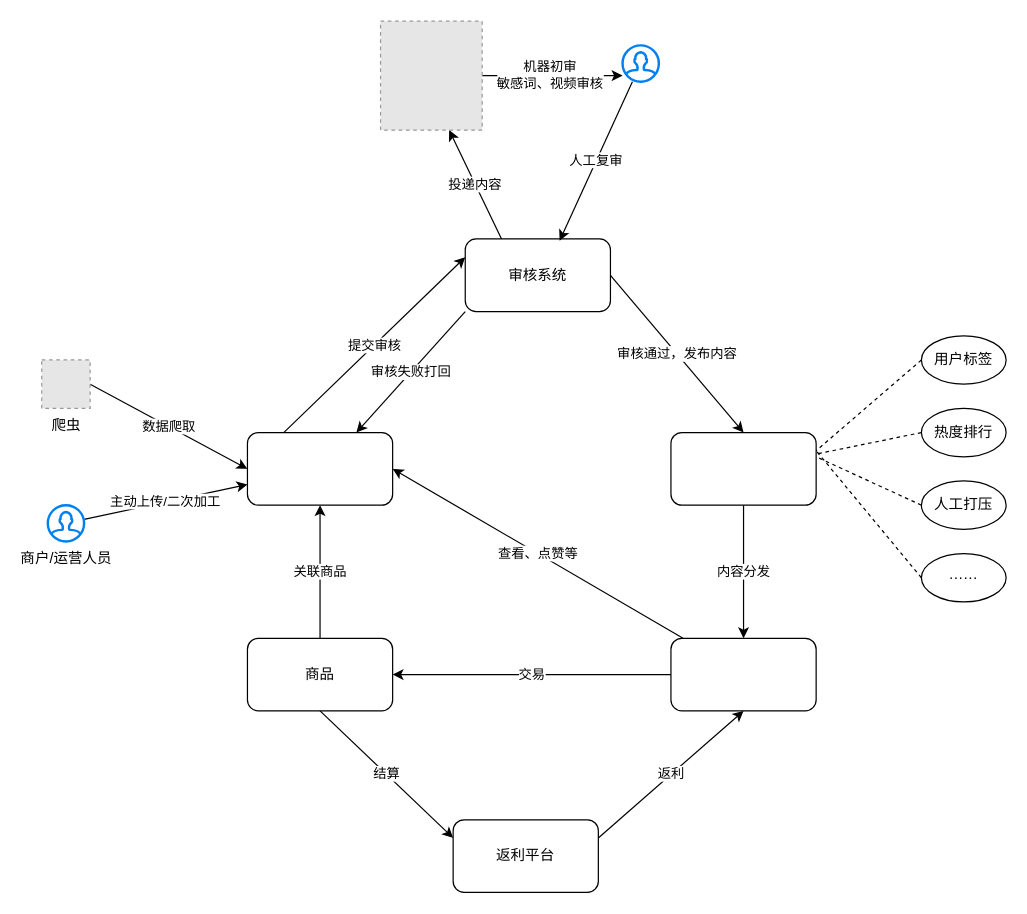
Some shapes in this 1027 by 914 pixel diagram are drawn without their labels. Grey dashed boxes stand in for pictures. The centre of each missing label's shape, as x and y in pixels:
内容: (x=319, y=468)
推荐系统: (x=743, y=468)
用户: (x=743, y=674)
运营人员: (x=640, y=63)
